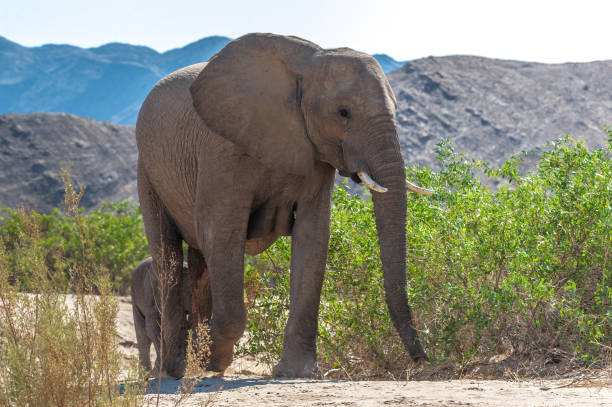africanelephant: (275, 47, 401, 224)
